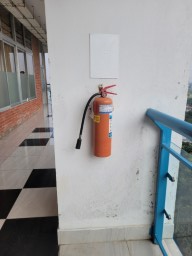fire_extinguisher: (63, 99, 118, 133), (72, 104, 118, 133)
